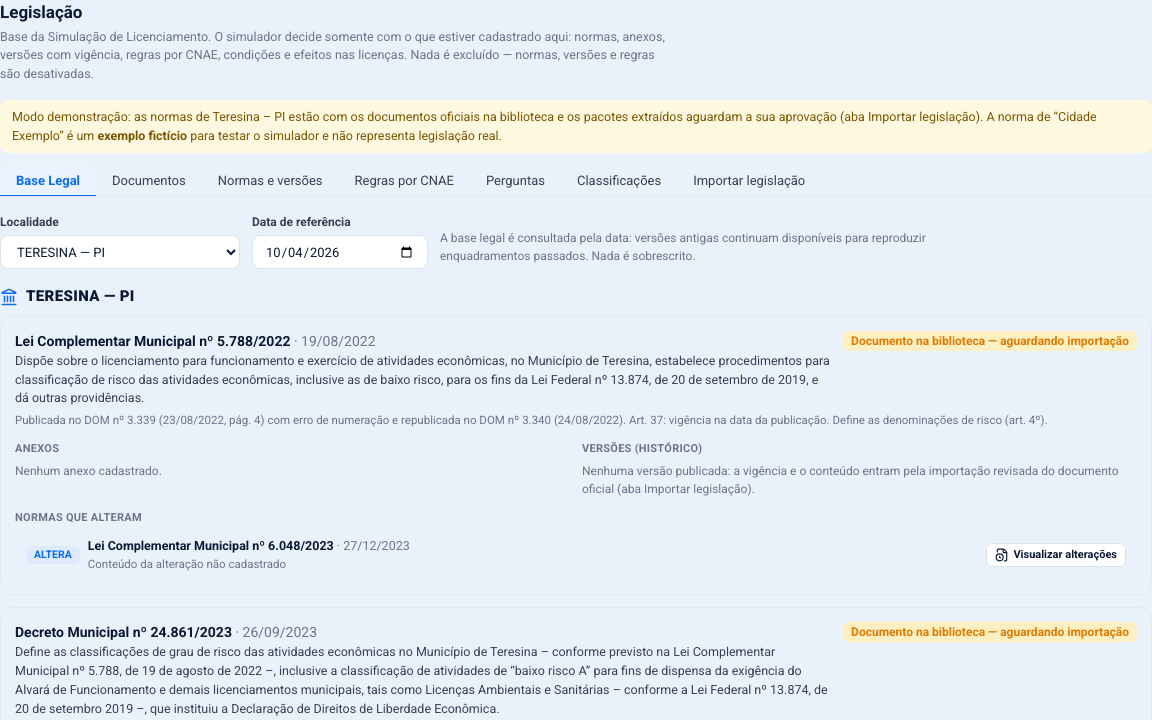
Configurações › Legislação › Documentos (Teresina) › verificar nova legislação: arquitetura pronta, sem raspagem (integração pendente)
Expected: the heading "TERESINA — PI" is shown, x1=0 y1=287 x2=135 y2=306
Click the tab "Documentos": (149, 181) x1=96 y1=165 x2=202 y2=197
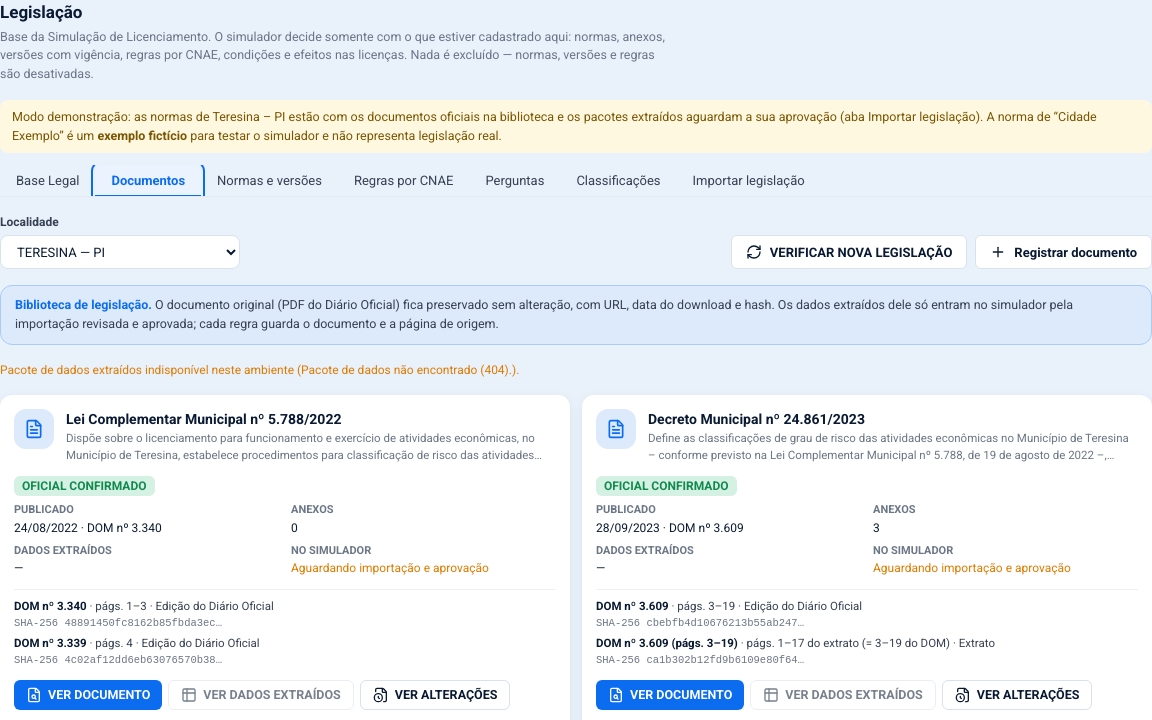
Click the button "Verificar nova legislação": (849, 252) x1=731 y1=235 x2=967 y2=269
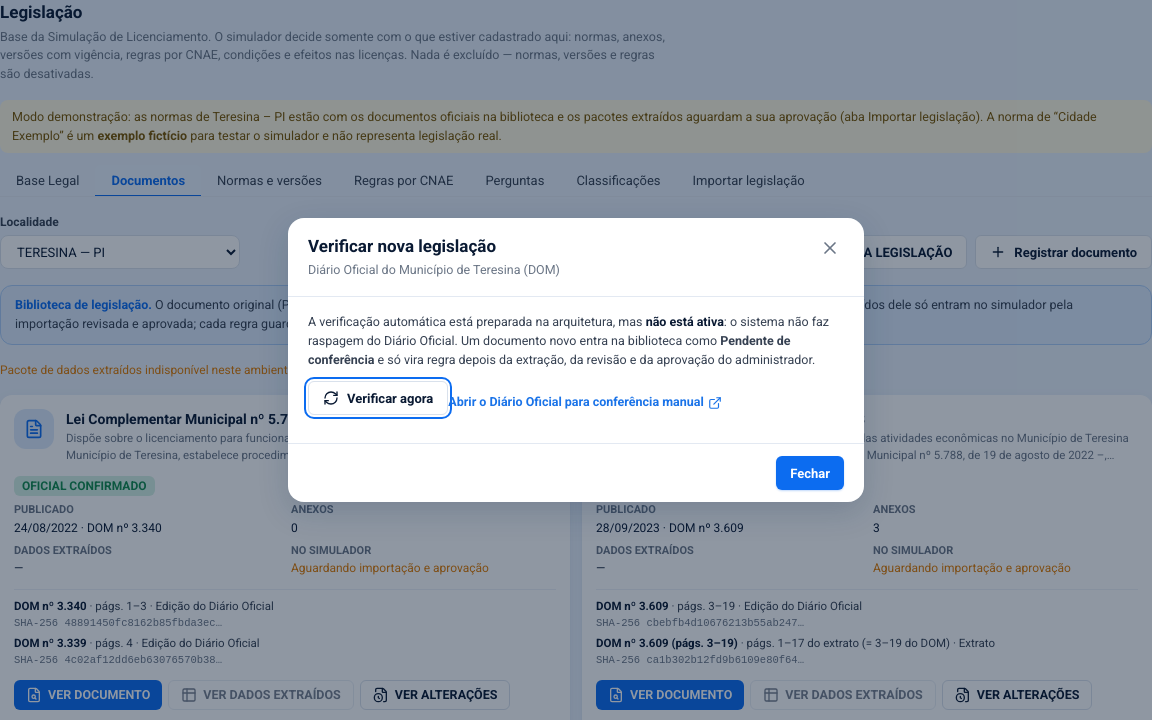
Click the button "Verificar agora": (378, 398) x1=308 y1=381 x2=448 y2=415
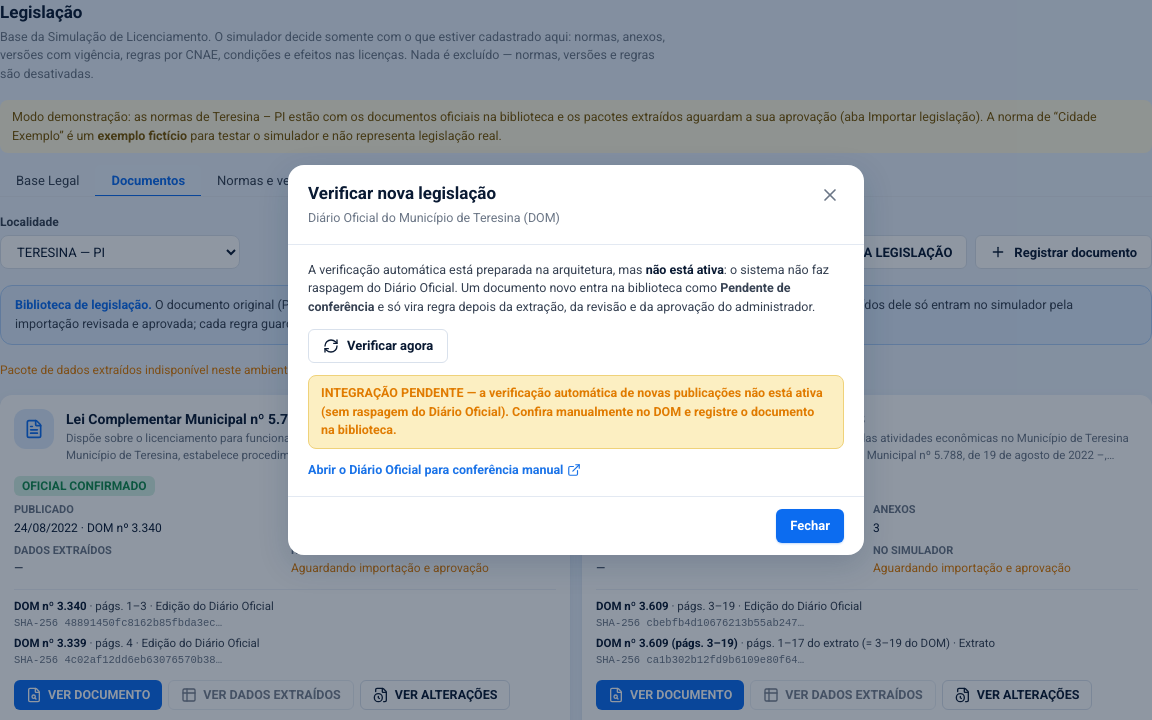
Now the text "INTEGRAÇÃO PENDENTE" is shown, box x1=321 y1=385 x2=823 y2=437
